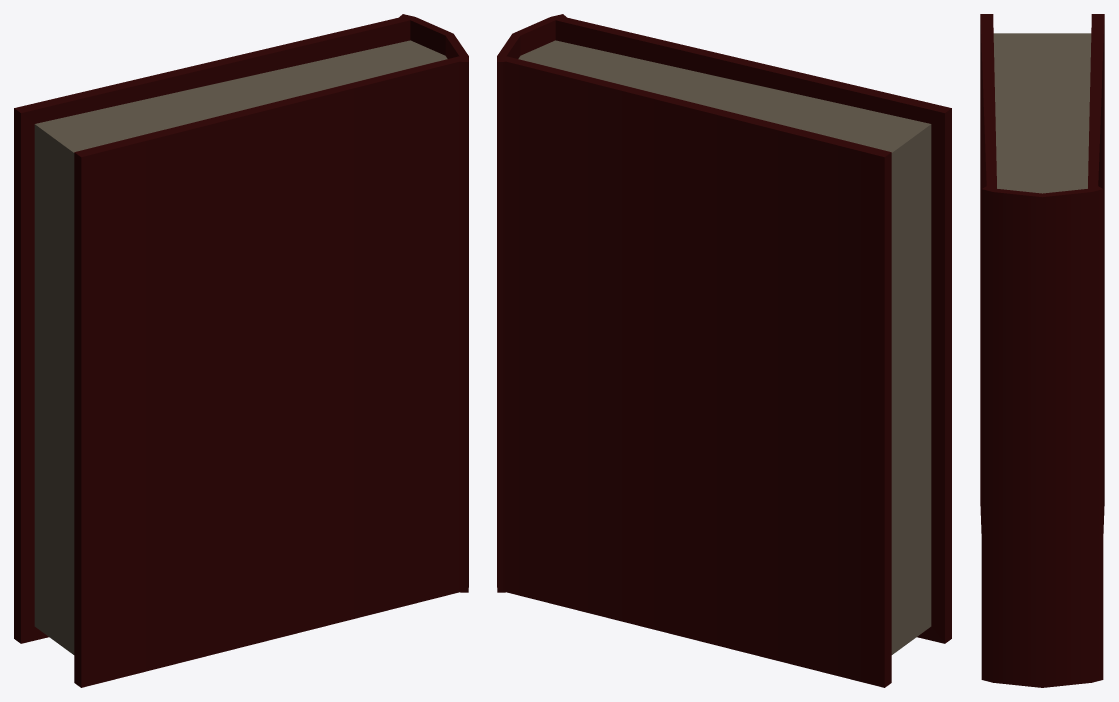
File: livre.FBX
3 renders of one model, left to right at view 1: azimuth 30°, elevation 25°; view 2: azimuth 150°, elevation 25°; view 3: azimuth 270°, elevation 25°, orthographic. The views are drawn at different scales.
Visible parts, largest first — view 1: T2_livre; view 2: T2_livre; view 3: T2_livre.
Part boxes in pixels (box(x1,y1,x2,y2)): T2_livre: box(14, 14, 468, 687); T2_livre: box(497, 14, 951, 687); T2_livre: box(980, 14, 1104, 687).
Size of the model in its own units: 0.3283 by 0.4102 by 0.094.
